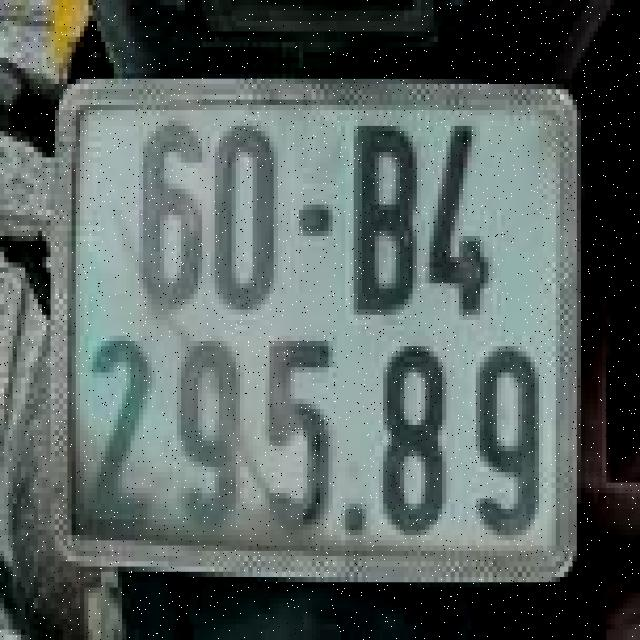0: (206, 113, 286, 317)
2: (82, 325, 162, 530)
4: (427, 102, 499, 333)
5: (256, 330, 332, 551)
6: (127, 113, 210, 317)
8: (372, 333, 448, 543)
9: (467, 322, 556, 554), (164, 312, 248, 533)
B: (343, 116, 428, 326)
